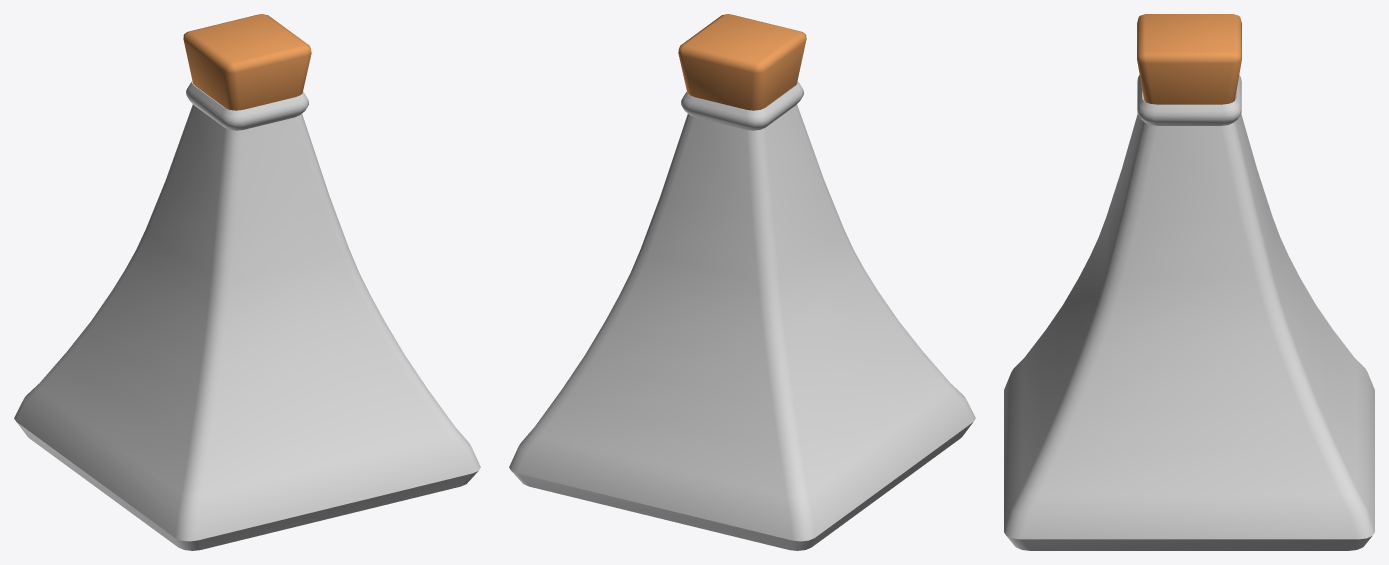
File: PotionMana.fbx
The picture shows the model from 3 angles, left to right: view 1: azimuth 30°, elevation 25°; view 2: azimuth 150°, elevation 25°; view 3: azimuth 270°, elevation 25°; orthographic projection. The views are drawn at different scales.
Visible parts, largest first — view 1: Cube, Cube.003; view 2: Cube, Cube.003; view 3: Cube, Cube.003.
Boxes of the visible parts, x1,y1,x2,y2 form: Cube: (14,81,480,550); Cube.003: (183,14,311,110); Cube: (509,81,975,550); Cube.003: (678,14,806,110); Cube: (1004,75,1374,550); Cube.003: (1137,14,1241,104).
Size of the model in its own units: 179 by 239 by 179.
